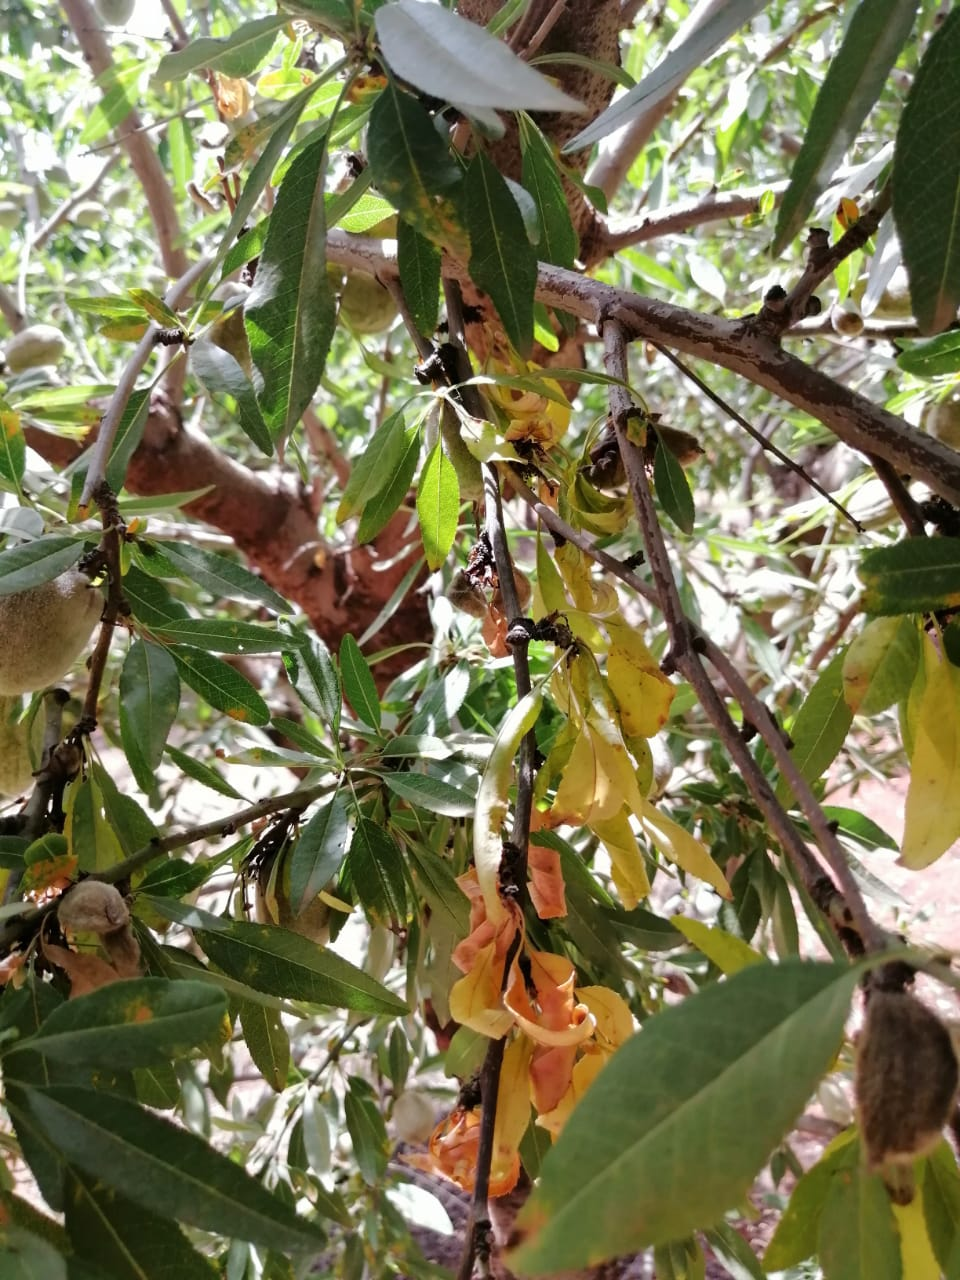chancre fusicocum: (410, 295, 718, 1183)
